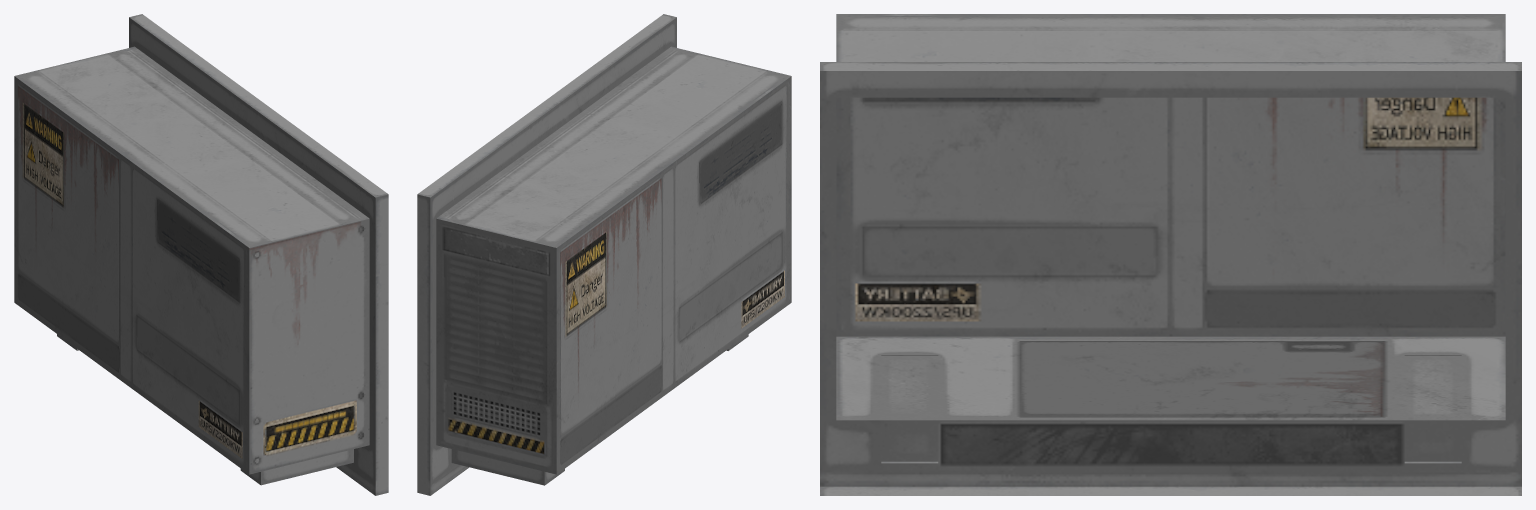
The model's file is CP_Feeder_Node_02.fbx.
3 views of the same model, side by side, from view 1: azimuth 30°, elevation 25°; view 2: azimuth 150°, elevation 25°; view 3: azimuth 270°, elevation 25° (orthographic). The views are drawn at different scales.
Visible parts, largest first — view 1: CP_Feeder_Node_02; view 2: CP_Feeder_Node_02; view 3: CP_Feeder_Node_02.
Boxes of the visible parts, box(x1,y1,x2,y2) form: CP_Feeder_Node_02: box(14, 14, 388, 495); CP_Feeder_Node_02: box(417, 14, 791, 495); CP_Feeder_Node_02: box(820, 14, 1521, 495).
Bounding box in the file's own units: 68.73 × 146 × 219.
